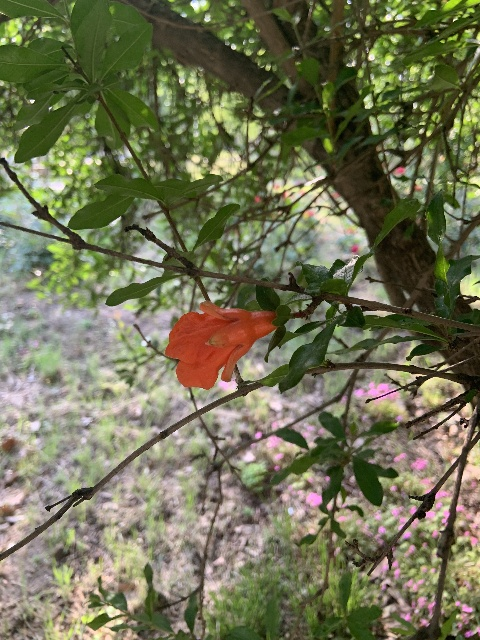flower: (164, 300, 279, 390)
